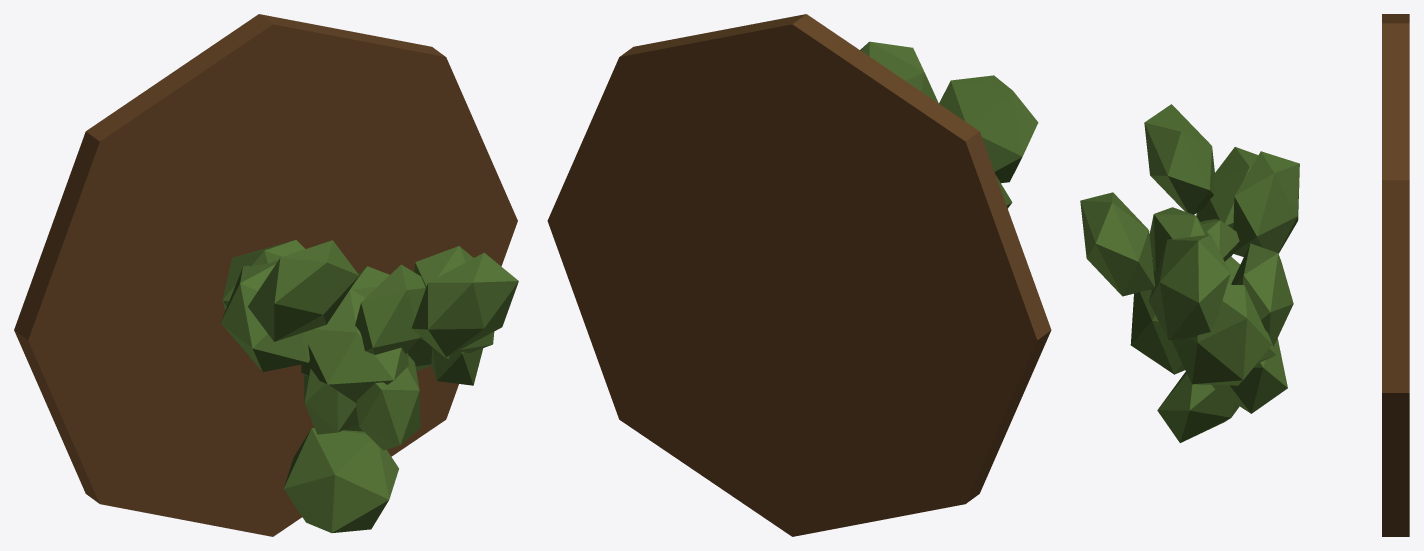
File: stage_2.obj
3 views of the same model, side by side, from view 1: azimuth 30°, elevation 25°; view 2: azimuth 150°, elevation 25°; view 3: azimuth 270°, elevation 25° (orthographic).
Parts seen in each view (by area): view 1: Tomato_Stage2_v2; view 2: Tomato_Stage2_v2; view 3: Tomato_Stage2_v2.
Boxes of the visible parts, x1,y1,x2,y2 form: Tomato_Stage2_v2: [14, 14, 518, 536]; Tomato_Stage2_v2: [547, 14, 1051, 536]; Tomato_Stage2_v2: [1080, 14, 1409, 536].
Bounding box in the file's own units: 0.4 × 0.4 × 0.2368.
